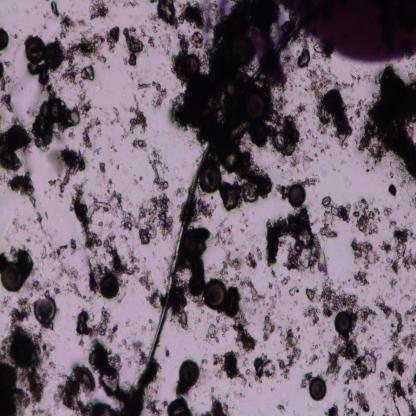Background material: (168, 6, 280, 148), (361, 63, 416, 181), (88, 337, 158, 416), (264, 210, 329, 277), (212, 148, 274, 210), (137, 147, 174, 243), (30, 86, 80, 149), (36, 241, 88, 301), (304, 285, 374, 329), (322, 194, 382, 240), (219, 248, 266, 304), (324, 336, 378, 382), (69, 182, 101, 252), (375, 300, 416, 350), (48, 144, 90, 192), (90, 190, 136, 233), (0, 362, 31, 414), (382, 227, 416, 272), (306, 64, 348, 98), (351, 238, 379, 288), (3, 218, 54, 245), (105, 235, 138, 276), (76, 308, 118, 340), (211, 352, 248, 387), (318, 114, 354, 148), (280, 328, 302, 383), (58, 371, 84, 415), (387, 378, 416, 414), (65, 38, 105, 64), (295, 99, 319, 142), (106, 101, 131, 142), (124, 28, 148, 70), (9, 174, 38, 208), (6, 297, 34, 331), (33, 332, 58, 370), (19, 367, 46, 402), (125, 94, 148, 135), (180, 2, 209, 34), (282, 110, 302, 156), (247, 355, 279, 383), (57, 12, 92, 37), (137, 81, 168, 108), (11, 245, 36, 278), (233, 319, 258, 352), (86, 255, 105, 298), (118, 337, 146, 366), (343, 386, 370, 415), (168, 389, 196, 416), (298, 339, 323, 367), (206, 388, 231, 416), (149, 12, 166, 52), (156, 0, 180, 28), (382, 353, 407, 378), (0, 147, 24, 172), (82, 119, 100, 149), (266, 279, 282, 312), (343, 99, 366, 121), (82, 90, 100, 118), (29, 64, 51, 86), (83, 401, 120, 414), (104, 24, 120, 54), (379, 200, 398, 225), (60, 63, 82, 84), (88, 1, 111, 21), (280, 275, 299, 297), (97, 163, 112, 190), (262, 313, 275, 343), (190, 29, 206, 50), (0, 95, 16, 116), (205, 323, 221, 343), (296, 48, 311, 69), (0, 61, 10, 92), (377, 371, 388, 396), (80, 64, 96, 81), (303, 173, 320, 189), (300, 373, 314, 392), (148, 291, 164, 307), (300, 153, 314, 171), (132, 137, 150, 151), (386, 184, 400, 199), (49, 2, 62, 18), (176, 383, 190, 397), (116, 0, 139, 8), (324, 403, 339, 414), (278, 400, 287, 414), (271, 268, 278, 285), (163, 348, 172, 358), (116, 162, 121, 171)
Cellulose filter fibre: (130, 262, 154, 290)
Diatom: (9, 331, 36, 368), (244, 88, 270, 122), (70, 365, 98, 392), (199, 163, 223, 194), (1, 262, 25, 292), (23, 36, 46, 67), (6, 124, 29, 152), (34, 296, 56, 325), (206, 278, 226, 309), (322, 88, 344, 116), (248, 122, 270, 147), (45, 43, 64, 71), (224, 292, 242, 319), (180, 362, 200, 386), (334, 311, 353, 336), (288, 183, 307, 208), (99, 276, 120, 298), (188, 273, 206, 297), (309, 377, 327, 401), (184, 54, 201, 75), (274, 132, 288, 150), (0, 27, 10, 51), (92, 145, 102, 155)
Pen: (277, 2, 416, 64)
